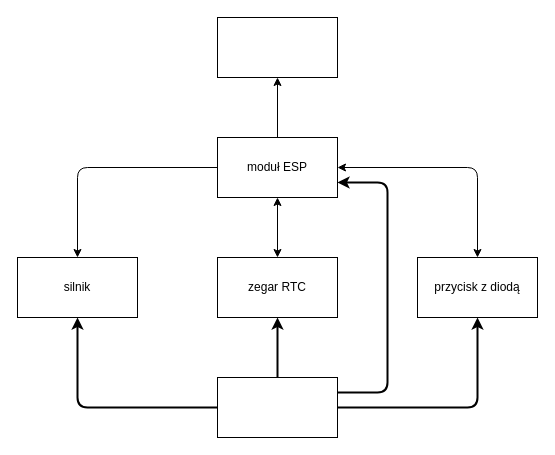
This 555x455 diagram has some shape labels left out. The shapes that lost their labels are listed below. From the top down, each one's centre as x and y in pixels, then its label:
At [277,47]: "buzzer".
At [277,407]: "zasilanie".
